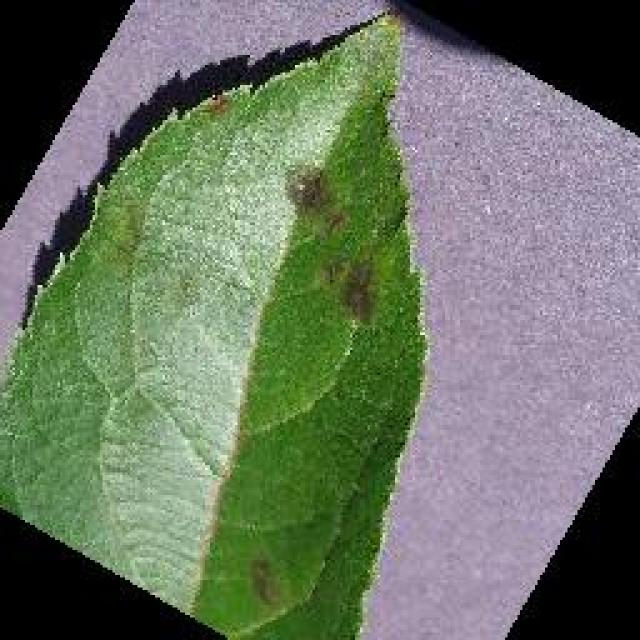apple scab disease: (0, 8, 430, 638)
